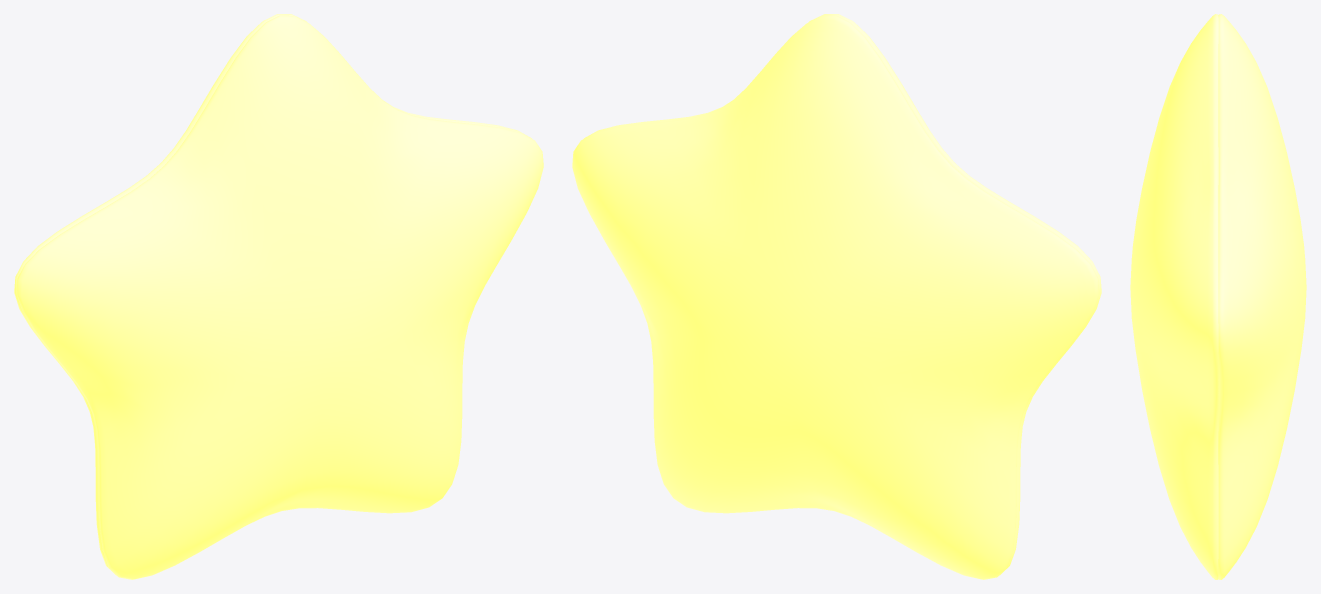
File: star.glb
3 renders of one model, left to right at view 1: azimuth 30°, elevation 25°; view 2: azimuth 150°, elevation 25°; view 3: azimuth 270°, elevation 25°, orthographic. The views are drawn at different scales.
Parts seen in each view (by area): view 1: Circle_0; view 2: Circle_0; view 3: Circle_0.
Boxes of the visible parts, x1,y1,x2,y2 form: Circle_0: [14, 14, 543, 579]; Circle_0: [572, 14, 1101, 579]; Circle_0: [1130, 14, 1306, 579].
Size of the model in its own units: 0.9162 by 0.878 by 0.2836.
